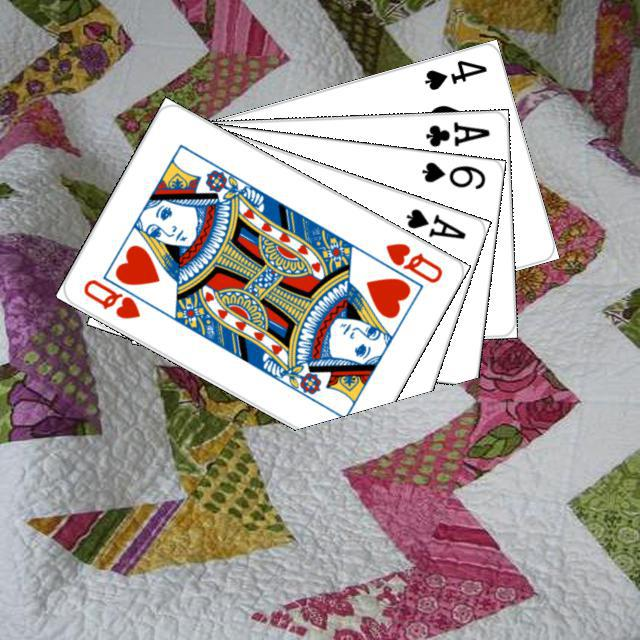4s: (419, 54, 489, 92)
6s: (417, 157, 487, 191)
Ac: (421, 117, 492, 149)
As: (401, 203, 468, 241)
Qh: (78, 271, 156, 321), (380, 237, 445, 285)
